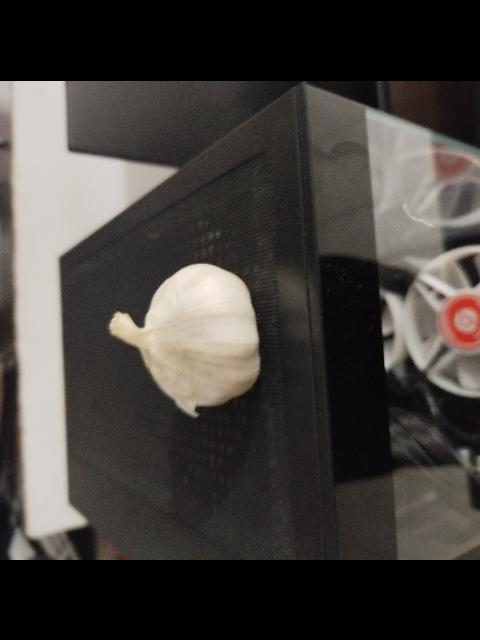garlic: (108, 262, 260, 416)
